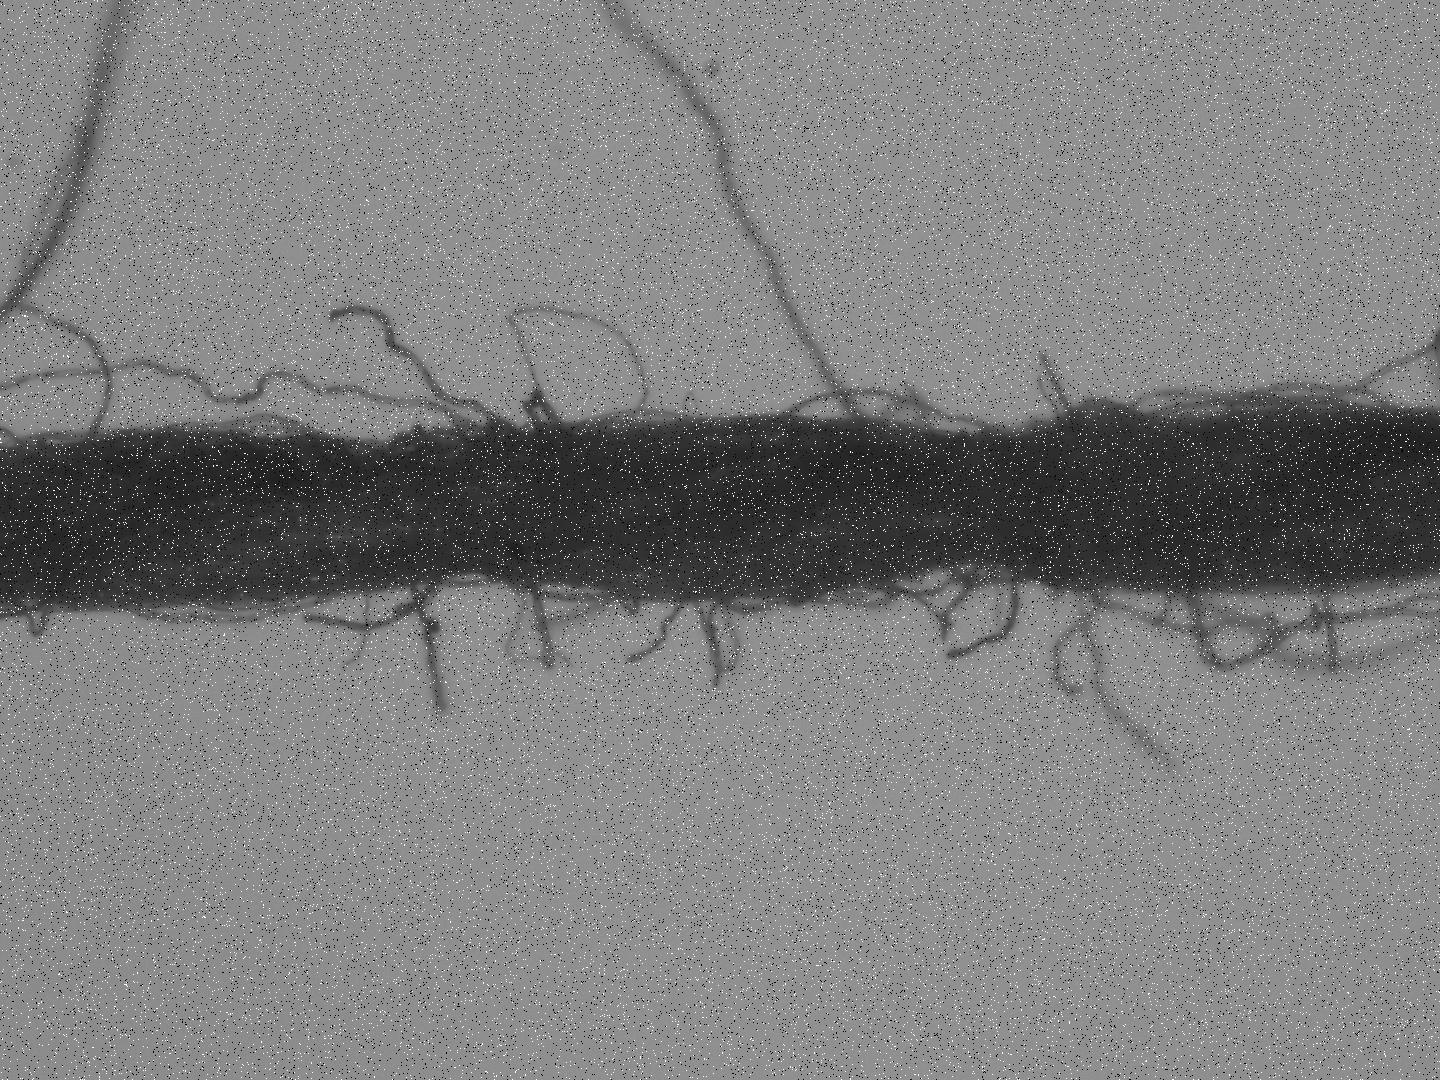loop_fiber: (787, 391, 991, 432), (143, 596, 332, 628), (1229, 382, 1400, 417), (181, 414, 325, 441), (524, 587, 639, 608), (947, 563, 1028, 590), (518, 390, 569, 433), (714, 596, 797, 618), (889, 569, 949, 599), (16, 599, 57, 642), (810, 585, 883, 609), (434, 573, 513, 593)
